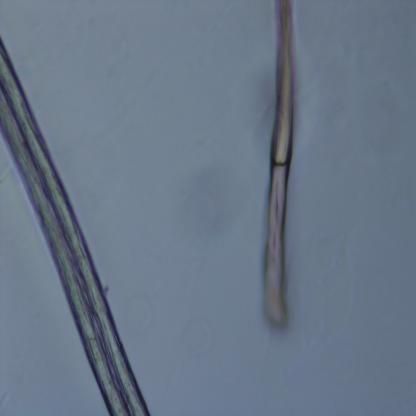Microfibre: (0, 38, 150, 416), (260, 0, 299, 328)
